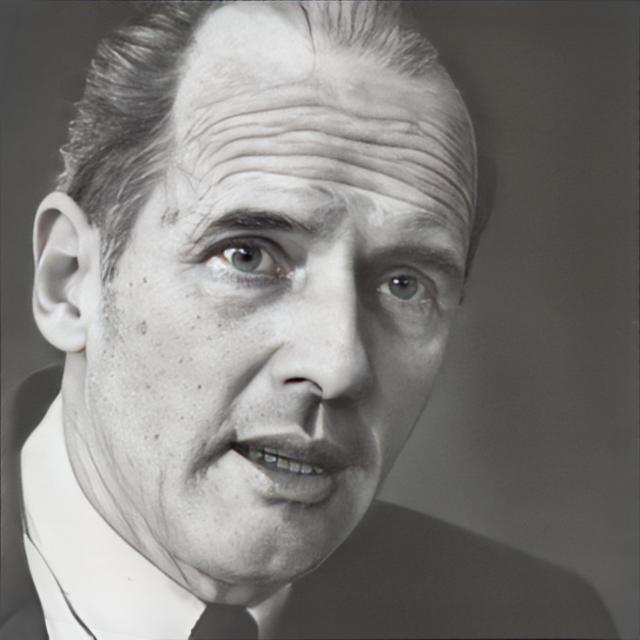surprise: (92, 1, 480, 590)
